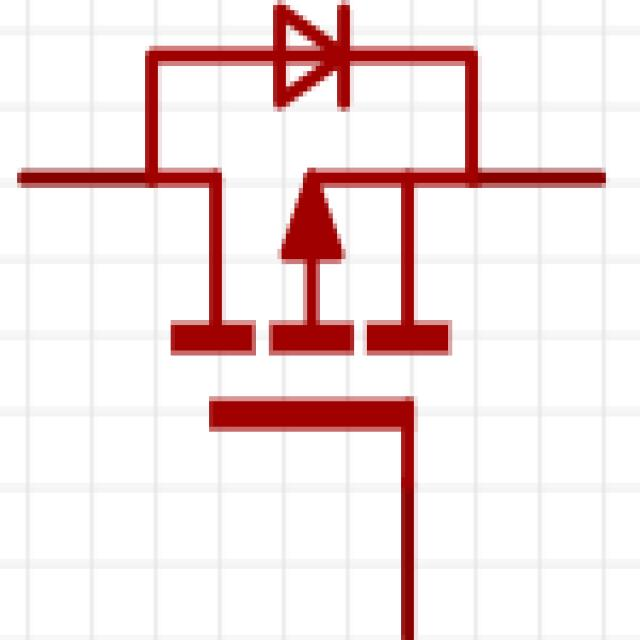pmos: (24, 0, 623, 628)
